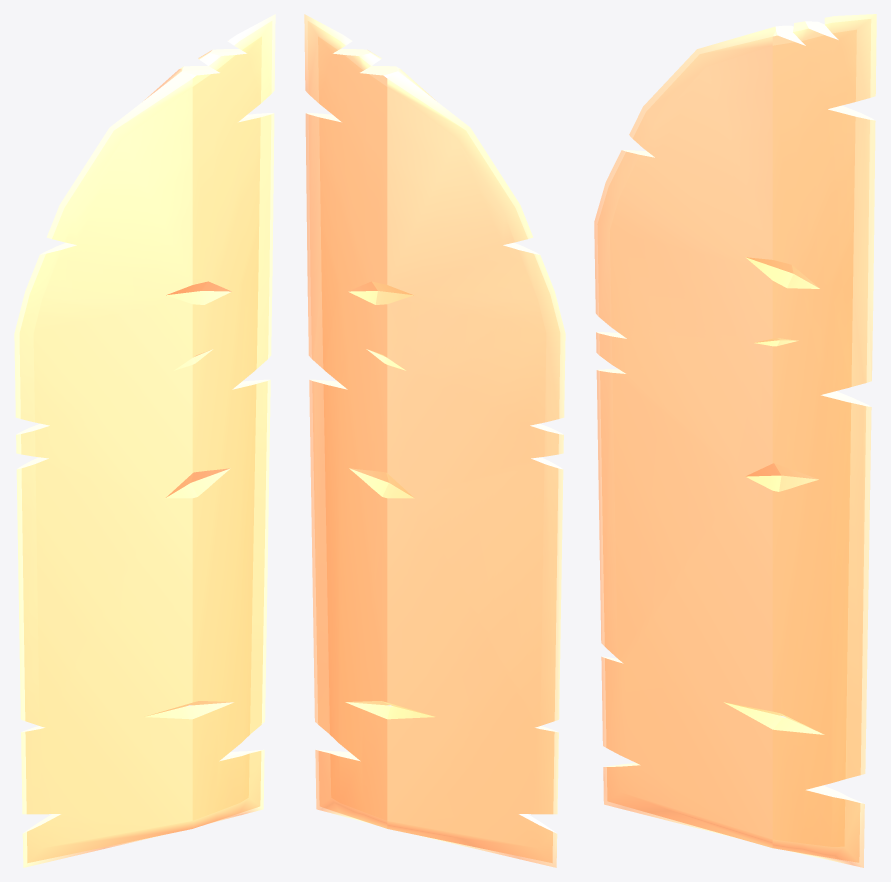
Rendered from wood_blade_scratched_074.glb.
3 renders of one model, left to right at view 1: azimuth 30°, elevation 25°; view 2: azimuth 150°, elevation 25°; view 3: azimuth 330°, elevation 25°, orthographic. The views are drawn at different scales.
Parts seen in each view (by area): view 1: wood_blade_scratched.074; view 2: wood_blade_scratched.074; view 3: wood_blade_scratched.074.
Boxes of the visible parts, <box> form: wood_blade_scratched.074: <box>14,14,275,867</box>; wood_blade_scratched.074: <box>304,14,565,867</box>; wood_blade_scratched.074: <box>594,14,876,867</box>.
Bounding box in the file's own units: 4.15 × 12.06 × 0.3631.
1 material, 1 textured.
